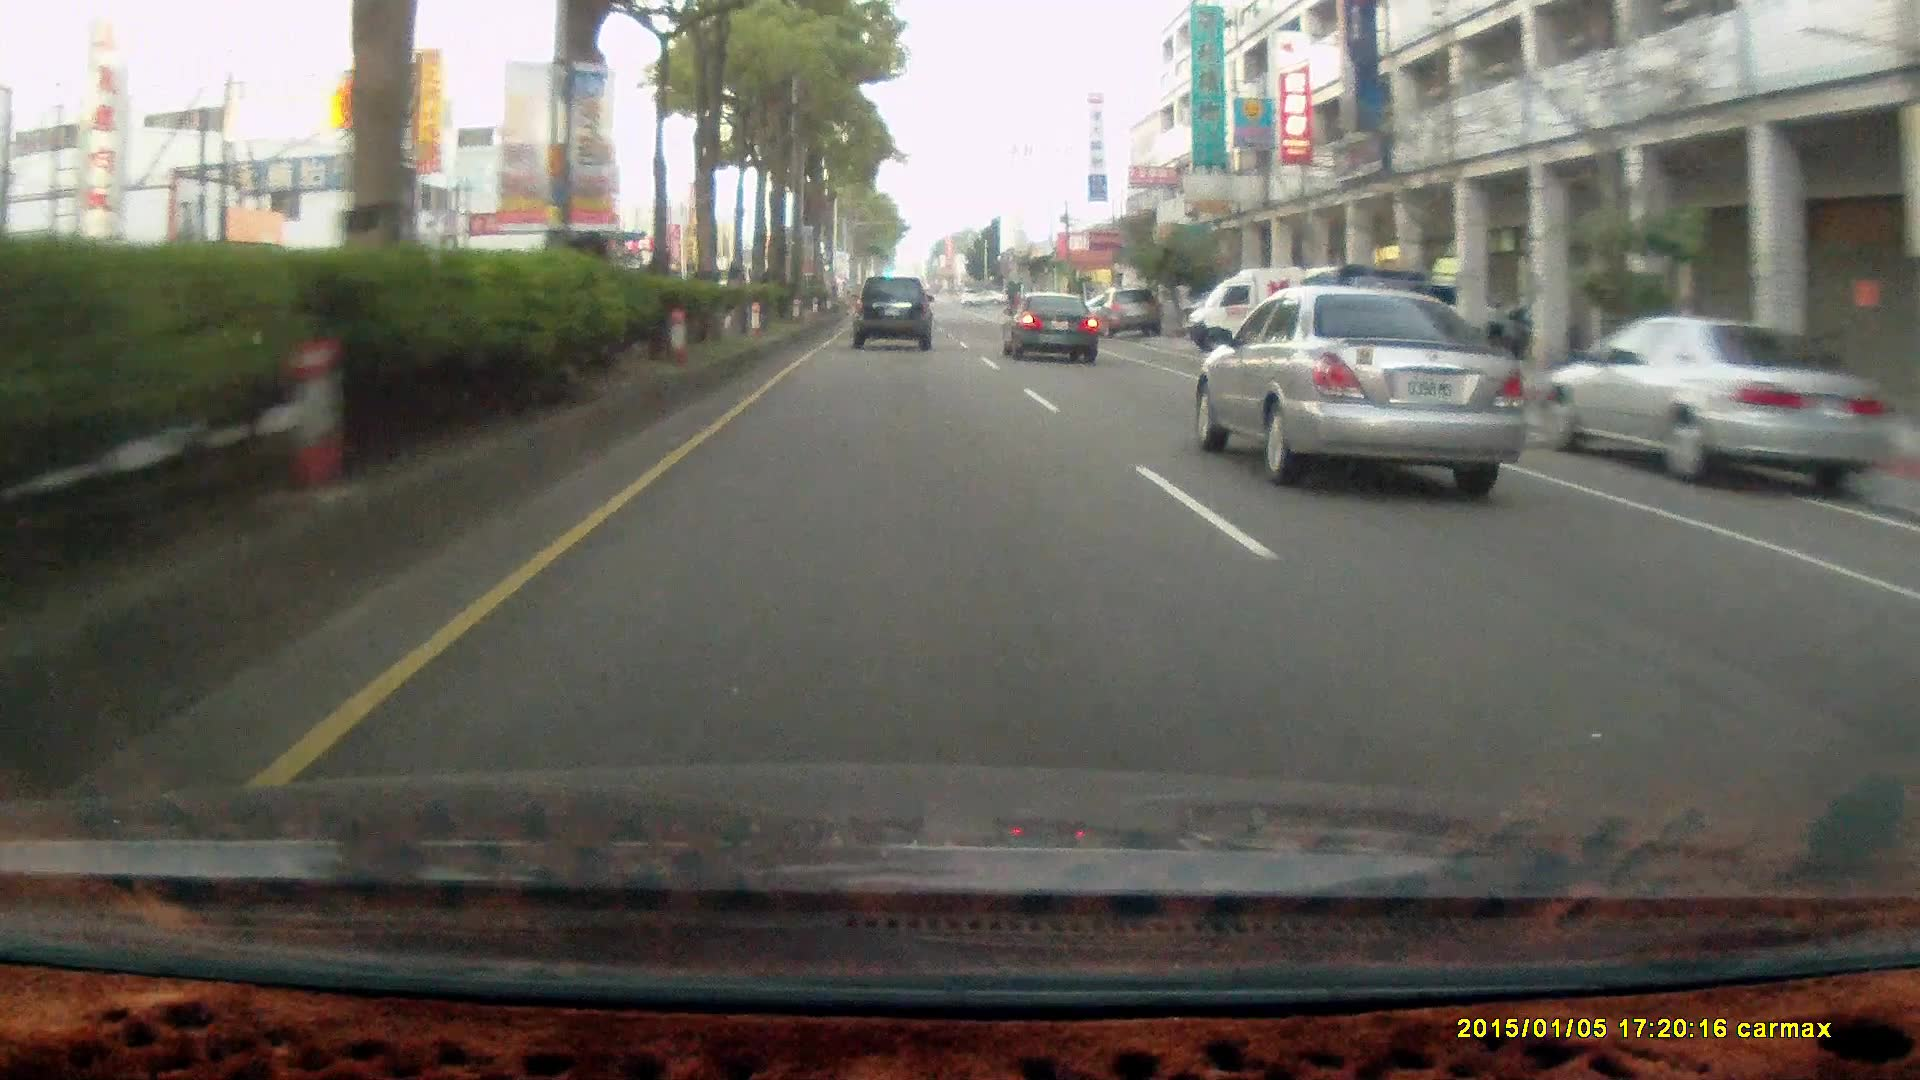vehicle: (1196, 287, 1524, 489), (1539, 314, 1887, 495), (1549, 320, 1851, 493), (1317, 269, 1519, 419), (1185, 264, 1360, 359), (1000, 294, 1102, 369), (1001, 290, 1096, 364), (852, 280, 936, 356), (852, 274, 932, 349), (1091, 291, 1159, 343), (1095, 286, 1160, 336)
